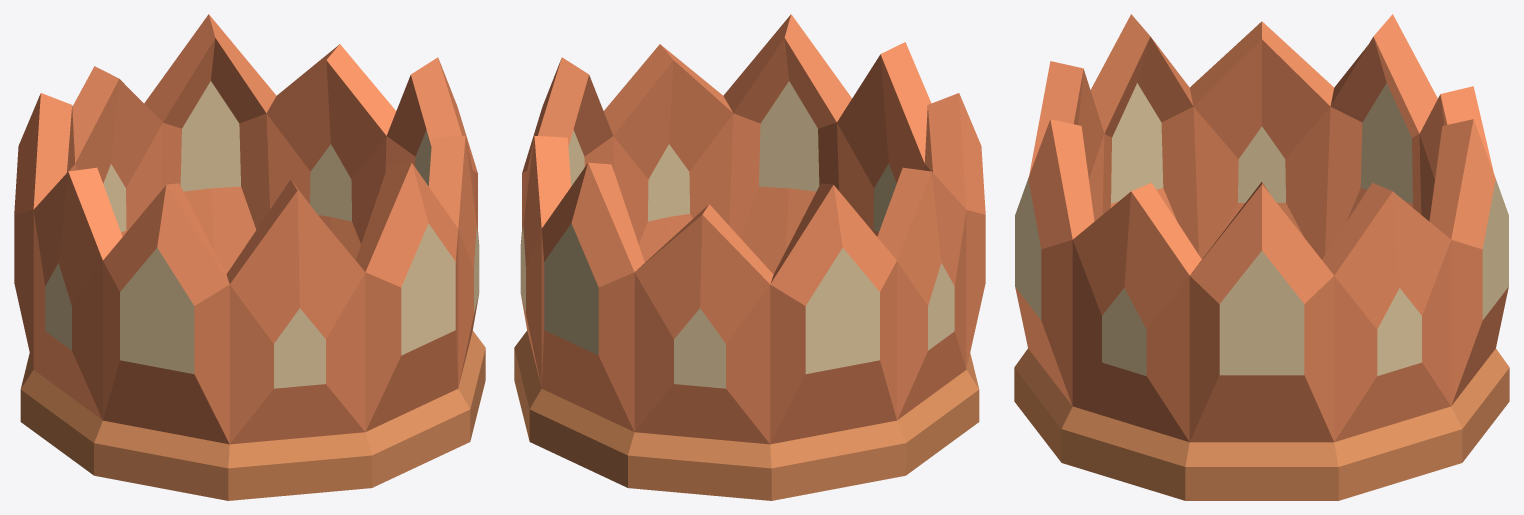
The model's file is Crown 3.fbx.
The picture shows the model from 3 angles, left to right: view 1: azimuth 30°, elevation 25°; view 2: azimuth 150°, elevation 25°; view 3: azimuth 270°, elevation 25°; orthographic projection. The views are drawn at different scales.
Visible parts, largest first — view 1: Crown 3; view 2: Crown 3; view 3: Crown 3.
Part boxes in pixels (x1,y1,x2,y2): Crown 3: (14,14,485,500); Crown 3: (514,14,985,500); Crown 3: (1014,14,1509,500).
Bounding box in the file's own units: 206 × 147 × 212.
